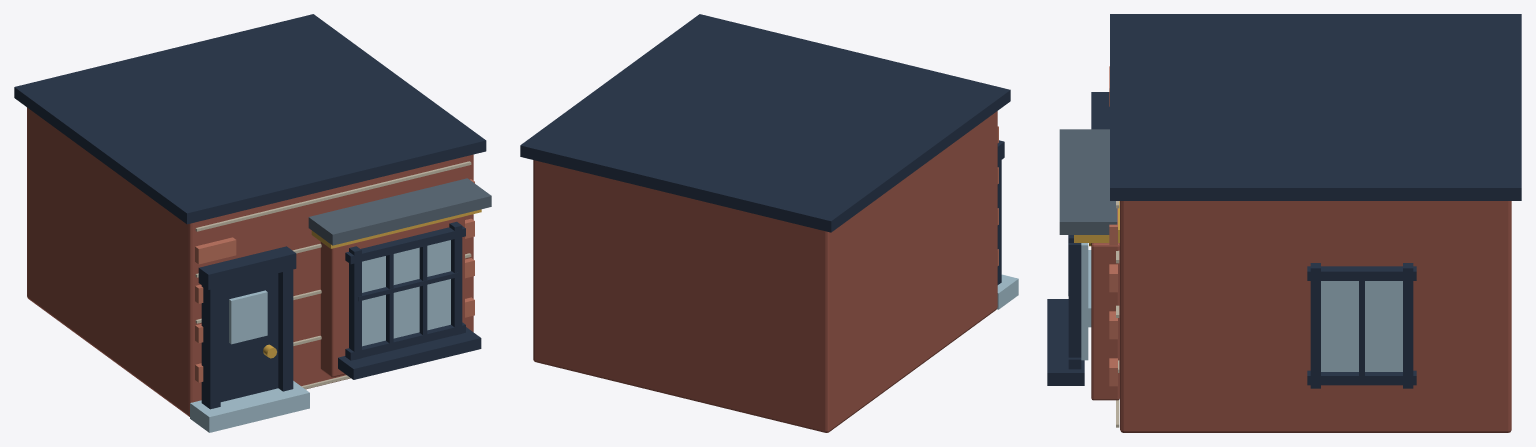
File: floor_works_1.glb
3 renders of one model, left to right at view 1: azimuth 30°, elevation 25°; view 2: azimuth 150°, elevation 25°; view 3: azimuth 270°, elevation 25°, orthographic. The views are drawn at different scales.
Visible parts, largest first — view 1: floor_works_1 ink, floor_works_1 brick, floor_works_1 glass, floor_works_1 steel, floor_works_1 mist, floor_works_1 mortar, floor_works_1 clay, floor_works_1 ochre; view 2: floor_works_1 brick, floor_works_1 ink, floor_works_1 mist; view 3: floor_works_1 ink, floor_works_1 brick, floor_works_1 glass, floor_works_1 steel, floor_works_1 clay.
Boxes of the visible parts, x1,y1,x2,y2 form: floor_works_1 ink: (14,14,486,409); floor_works_1 brick: (27,107,473,416); floor_works_1 glass: (229,240,450,346); floor_works_1 steel: (308,178,491,245); floor_works_1 mist: (190,381,309,432); floor_works_1 mortar: (195,161,471,389); floor_works_1 clay: (195,179,474,382); floor_works_1 ochre: (263,209,481,358); floor_works_1 brick: (533,111,997,432); floor_works_1 ink: (520,14,1010,284); floor_works_1 mist: (997,274,1018,309); floor_works_1 ink: (1047,14,1521,388); floor_works_1 brick: (1091,201,1511,432); floor_works_1 glass: (1081,243,1402,371); floor_works_1 steel: (1059,129,1117,234); floor_works_1 clay: (1109,66,1117,386).
Size of the model in its own units: 0.7345 by 0.48 by 0.824.
